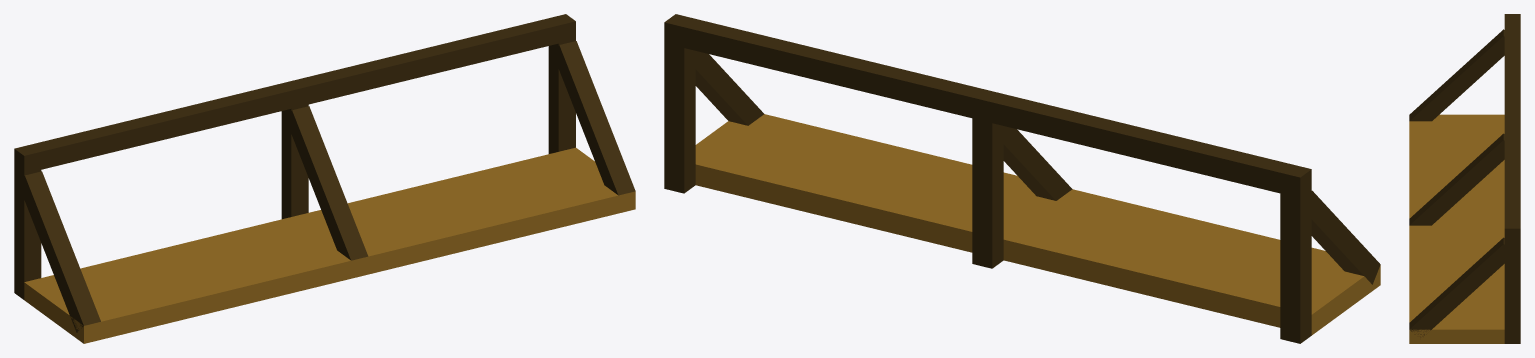
File: viseci deo.FBX
3 renders of one model, left to right at view 1: azimuth 30°, elevation 25°; view 2: azimuth 150°, elevation 25°; view 3: azimuth 270°, elevation 25°, orthographic. The views are drawn at different scales.
Visible parts, largest first — view 1: Box1460, Box1468; view 2: Box1460, Box1468; view 3: Box1460, Box1468.
Part boxes in pixels (<box>): Box1460: <box>24,147,635,343</box>; Box1468: <box>14,14,635,332</box>; Box1460: <box>695,114,1380,335</box>; Box1468: <box>664,14,1380,343</box>; Box1460: <box>1409,114,1504,343</box>; Box1468: <box>1409,14,1520,343</box>.
Size of the model in its own units: 160 by 40 by 35.
